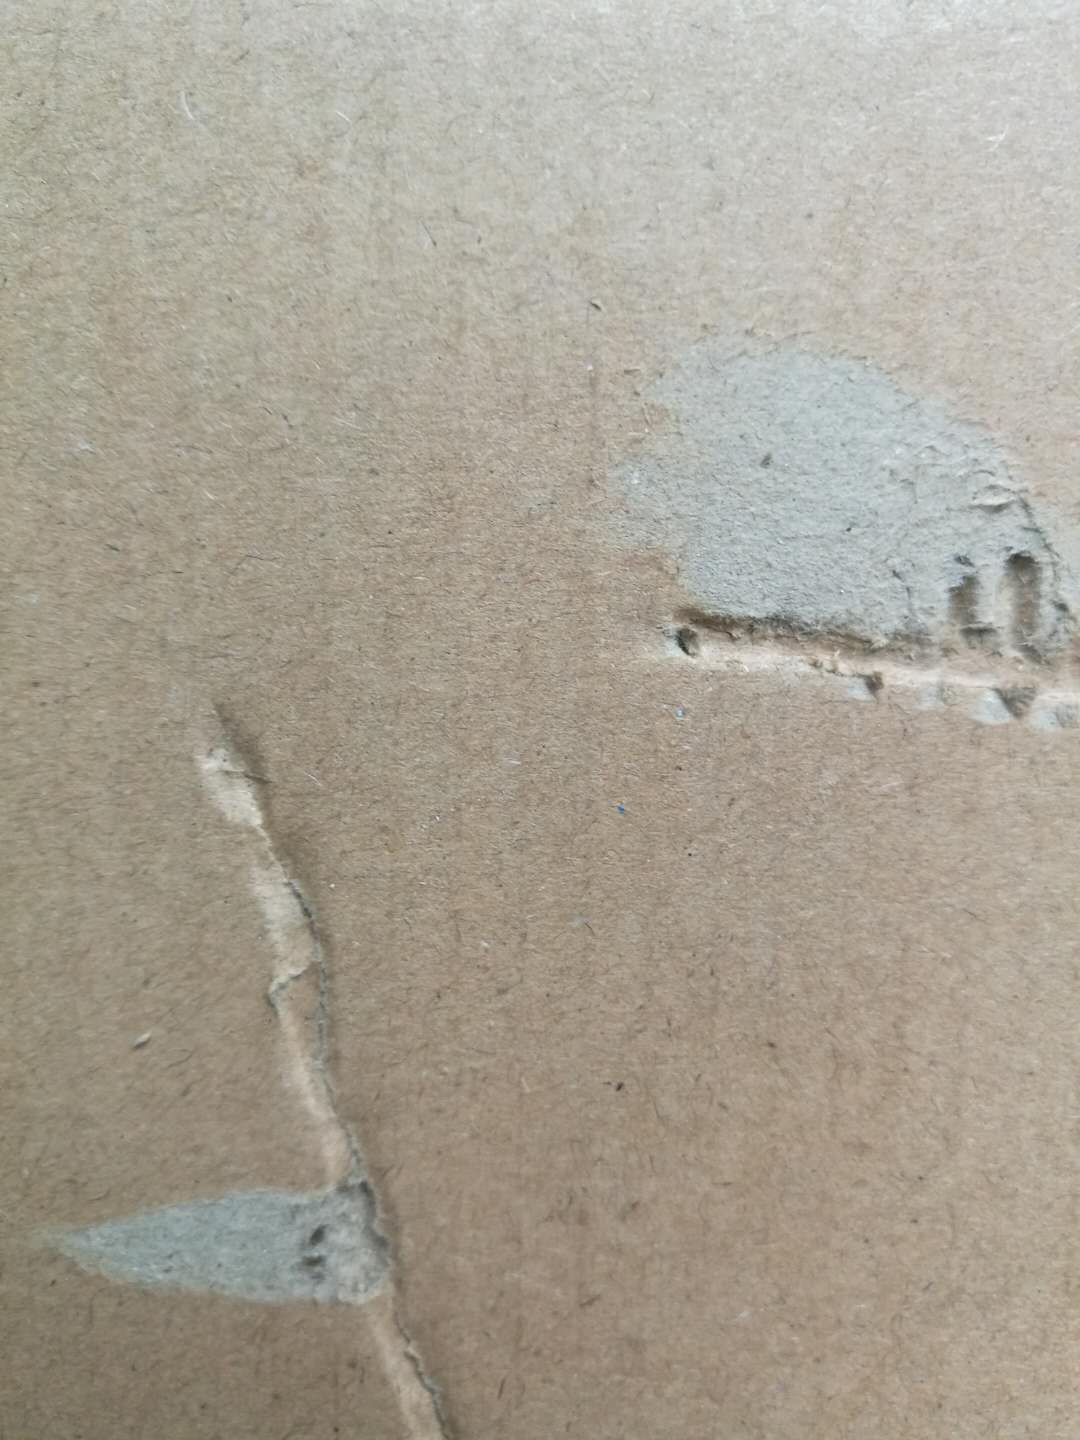defect: (11, 674, 537, 1440), (580, 281, 1080, 804)
